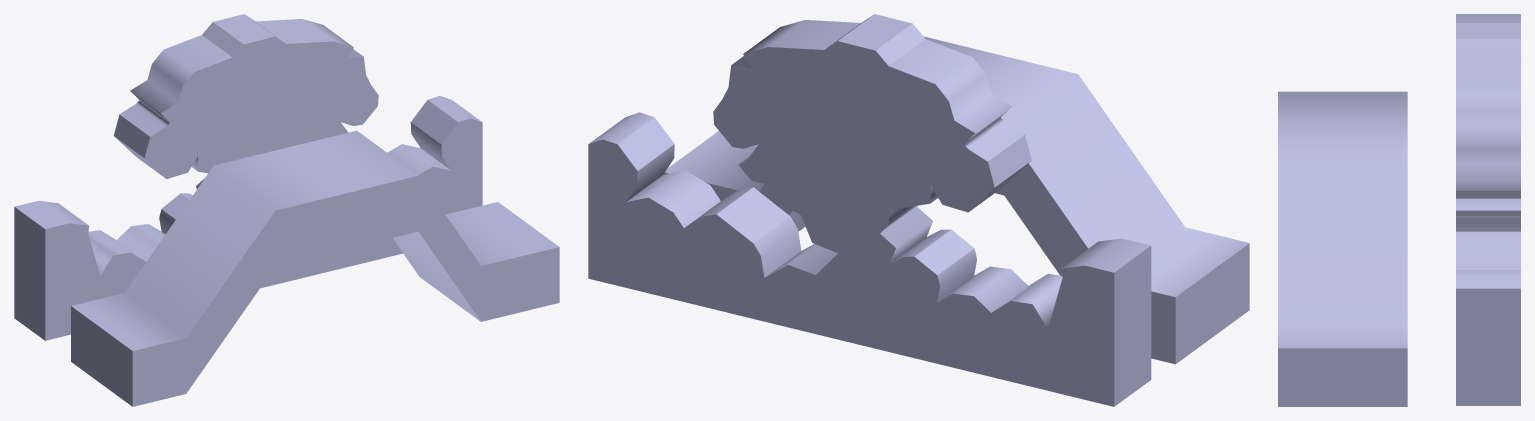
Rendered from PlateauMiddle.fbx.
3 renders of one model, left to right at view 1: azimuth 30°, elevation 25°; view 2: azimuth 150°, elevation 25°; view 3: azimuth 270°, elevation 25°, orthographic. The views are drawn at different scales.
Visible parts, largest first — view 1: PlateauMiddleTrack, PlateauMiddle; view 2: PlateauMiddle, PlateauMiddleTrack; view 3: PlateauMiddleTrack, PlateauMiddle.
Boxes of the visible parts, x1=… form: PlateauMiddleTrack: x1=71, y1=130, x2=559, y2=406; PlateauMiddle: x1=14, y1=14, x2=482, y2=340; PlateauMiddle: x1=588, y1=14, x2=1151, y2=406; PlateauMiddleTrack: x1=663, y1=36, x2=1249, y2=364; PlateauMiddleTrack: x1=1278, y1=91, x2=1407, y2=406; PlateauMiddle: x1=1456, y1=14, x2=1520, y2=405.
Size of the model in its own units: 41 by 22.65 by 18.75.
